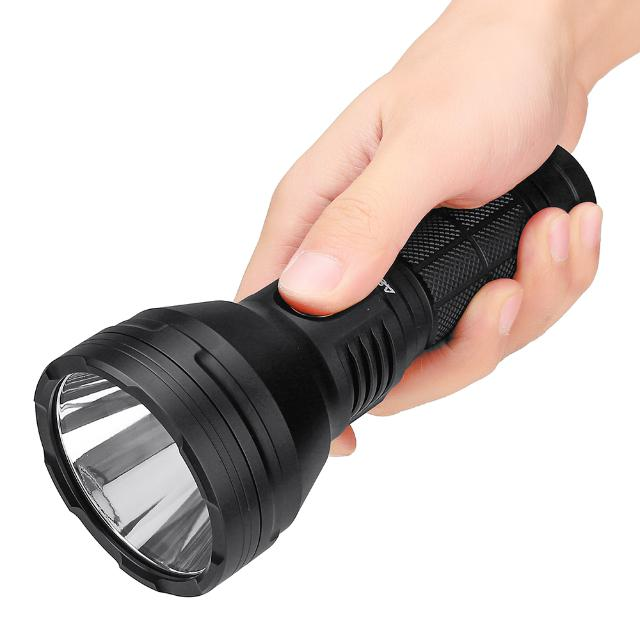Flashlight: (27, 131, 603, 604)
